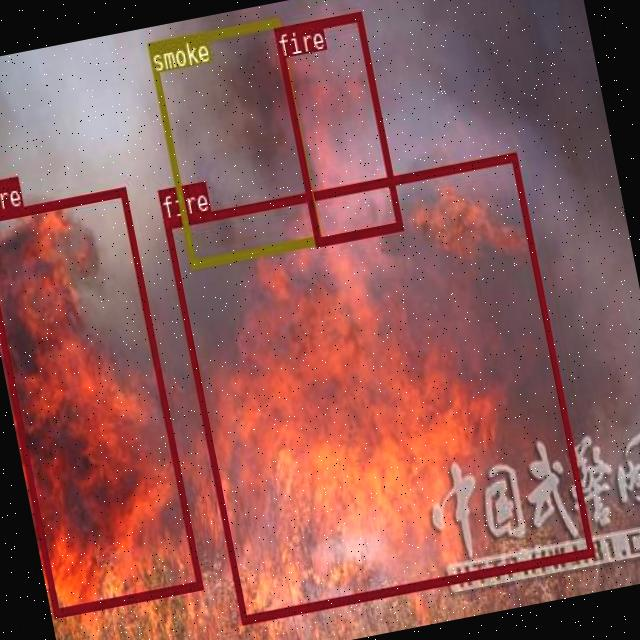fire: (163, 151, 594, 624), (0, 186, 201, 617), (273, 11, 402, 246)
smoke: (147, 18, 320, 266)
